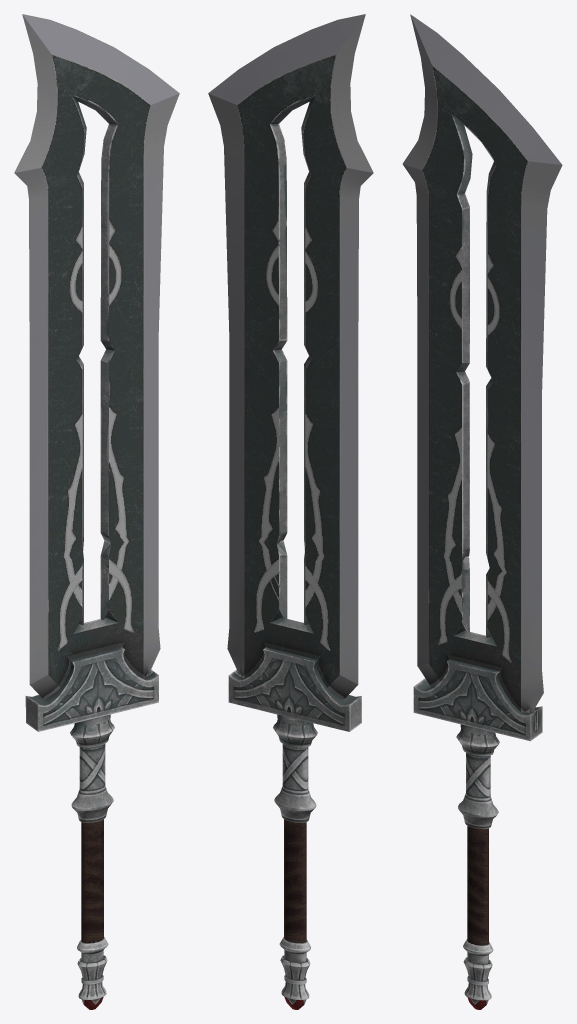
The model's file is held-greatsword-c82f73e0df5d.glb.
3 renders of one model, left to right at view 1: azimuth 30°, elevation 25°; view 2: azimuth 150°, elevation 25°; view 3: azimuth 330°, elevation 25°, orthographic. The views are drawn at different scales.
Parts seen in each view (by area): view 1: Blade_Material.002_0, Hilt_Material.001_0; view 2: Blade_Material.002_0, Hilt_Material.001_0; view 3: Blade_Material.002_0, Hilt_Material.001_0.
Boxes of the visible parts, <box> form: Blade_Material.002_0: <box>14,14,179,699</box>; Hilt_Material.001_0: <box>25,647,158,1009</box>; Blade_Material.002_0: <box>208,14,373,699</box>; Hilt_Material.001_0: <box>228,647,361,1009</box>; Blade_Material.002_0: <box>402,14,562,712</box>; Hilt_Material.001_0: <box>413,659,542,1009</box>.
Bounding box in the file's own units: 0.1712 × 1 × 0.0284.
Materials: 2 (2 with a texture image).
